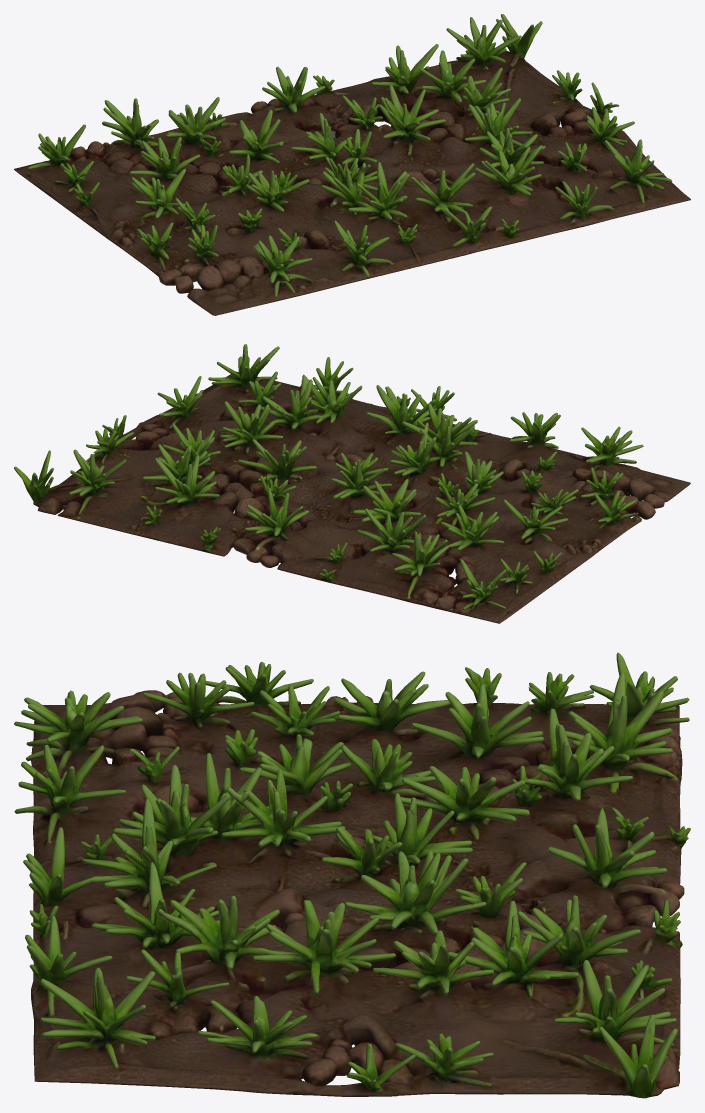
The picture shows the model from 3 angles, top to bottom: view 1: azimuth 30°, elevation 25°; view 2: azimuth 150°, elevation 25°; view 3: azimuth 270°, elevation 25°; orthographic projection. The views are drawn at different scales.
Parts seen in each view (by area): view 1: tripo_node_ea2fff90-ec69-4b23-bba9-9e13d4e2ae1c; view 2: tripo_node_ea2fff90-ec69-4b23-bba9-9e13d4e2ae1c; view 3: tripo_node_ea2fff90-ec69-4b23-bba9-9e13d4e2ae1c.
Part boxes in pixels (box(x1,y1,x2,y2)): tripo_node_ea2fff90-ec69-4b23-bba9-9e13d4e2ae1c: box(14, 14, 690, 315); tripo_node_ea2fff90-ec69-4b23-bba9-9e13d4e2ae1c: box(14, 344, 690, 623); tripo_node_ea2fff90-ec69-4b23-bba9-9e13d4e2ae1c: box(14, 652, 690, 1098).
Size of the model in its own units: 0.9998 by 0.1076 by 0.693.
Materials: 1 (1 with a texture image).
